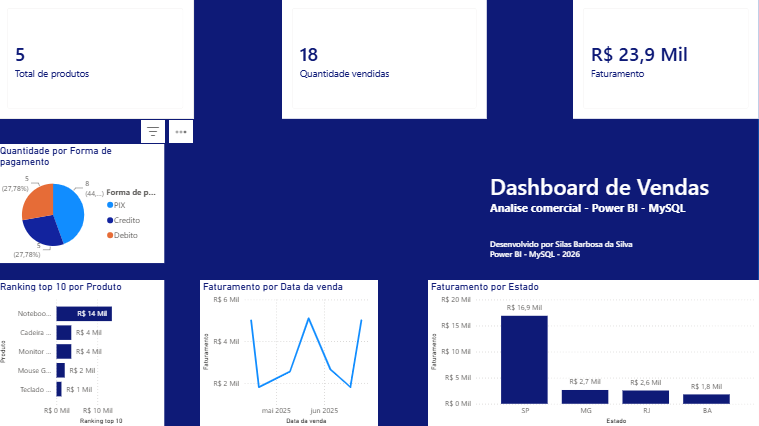

What the dashboard file says about the page in this screenshot:
{"tool":"powerbi","page":{"name":"Visão produto + Pagamento","canvas":[1280,720],"ordinal":1},"visuals":[{"type":"shape","box":[0,0,1280,720.6],"z":0},{"type":"cardVisual","fields":{"Data":["CountNonNull(produtos.id_produto)"]},"box":[0,0,330.9,203.3],"z":1000},{"type":"cardVisual","fields":{"Data":["Sum(itens_vendas.Quantidade)"]},"box":[478.7,0,344.4,203.3],"z":2000},{"type":"cardVisual","fields":{"Data":["Sum(itens_vendas.Faturamento)"]},"box":[967.6,0,312.4,203.3],"z":3000},{"type":"barChart","fields":{"Y":["Sum(itens_vendas.Faturamento)"],"Category":["produtos.Produto"]},"box":[0,473.7,280.5,246.9],"z":4000},{"type":"lineChart","fields":{"Category":["vendas.Data da venda.Variation.Hierarquia de datas.Mês"],"Y":["Sum(itens_vendas.Faturamento)"]},"box":[341,473.7,299,246.9],"z":5000},{"type":"pieChart","fields":{"Category":["vendas.Forma de pagamento"],"Y":["Sum(itens_vendas.Quantidade)"]},"box":[0,245.2,280.5,199.9],"z":6000},{"type":"columnChart","fields":{"Category":["estado.Estado"],"Y":["Sum(itens_vendas.Faturamento)"]},"box":[724,473.7,556,246.9],"z":7000},{"type":"textbox","box":[823.1,285.6,456.9,114.2],"z":8000},{"type":"textbox","box":[823.1,399.8,334.3,73.9],"z":9000}]}

Visuals, with their boxes in screenshot pixels (x1, y1, x2, y2), scaled from the page's 1280x720 canvas onto the 759x426 screenshot:
shape: Rect(0, 0, 758, 425)
cardVisual - CountNonNull(produtos.id_produto): Rect(0, 0, 196, 120)
cardVisual - Sum(itens_vendas.Quantidade): Rect(284, 0, 488, 120)
cardVisual - Sum(itens_vendas.Faturamento): Rect(574, 0, 758, 120)
barChart - Sum(itens_vendas.Faturamento) x produtos.Produto: Rect(0, 280, 166, 425)
lineChart - vendas.Data da venda.Variation.Hierarquia de datas.Mês x Sum(itens_vendas.Faturamento): Rect(202, 280, 380, 425)
pieChart - vendas.Forma de pagamento x Sum(itens_vendas.Quantidade): Rect(0, 145, 166, 263)
columnChart - estado.Estado x Sum(itens_vendas.Faturamento): Rect(429, 280, 758, 425)
textbox: Rect(488, 169, 758, 237)
textbox: Rect(488, 237, 686, 280)
